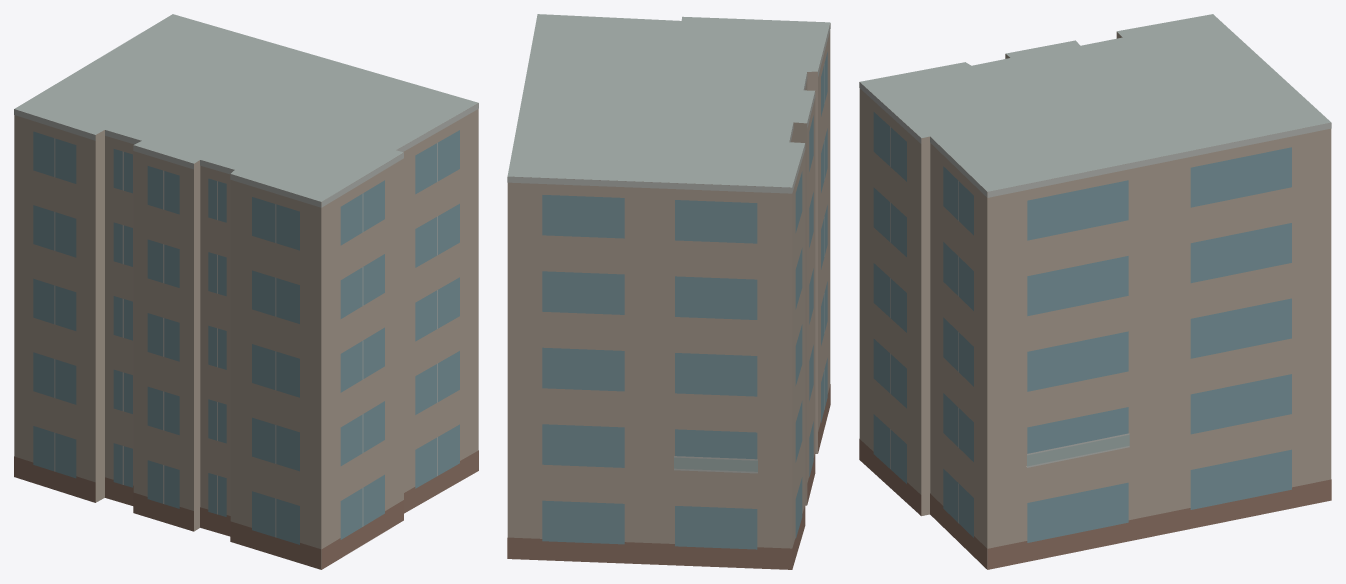
File: survey-upis-32758409.glb
3 views of the same model, side by side, from view 1: azimuth 30°, elevation 25°; view 2: azimuth 150°, elevation 25°; view 3: azimuth 270°, elevation 25° (orthographic). The views are drawn at different scales.
Visible parts, largest first — view 1: survey-upis-32758409.tmp; view 2: survey-upis-32758409.tmp; view 3: survey-upis-32758409.tmp.
Boxes of the visible parts, x1=… form: survey-upis-32758409.tmp: x1=14, y1=14, x2=478, y2=569; survey-upis-32758409.tmp: x1=507, y1=14, x2=830, y2=569; survey-upis-32758409.tmp: x1=859, y1=14, x2=1331, y2=569.
Bounding box in the file's own units: 15.4 × 15.25 × 17.27.
